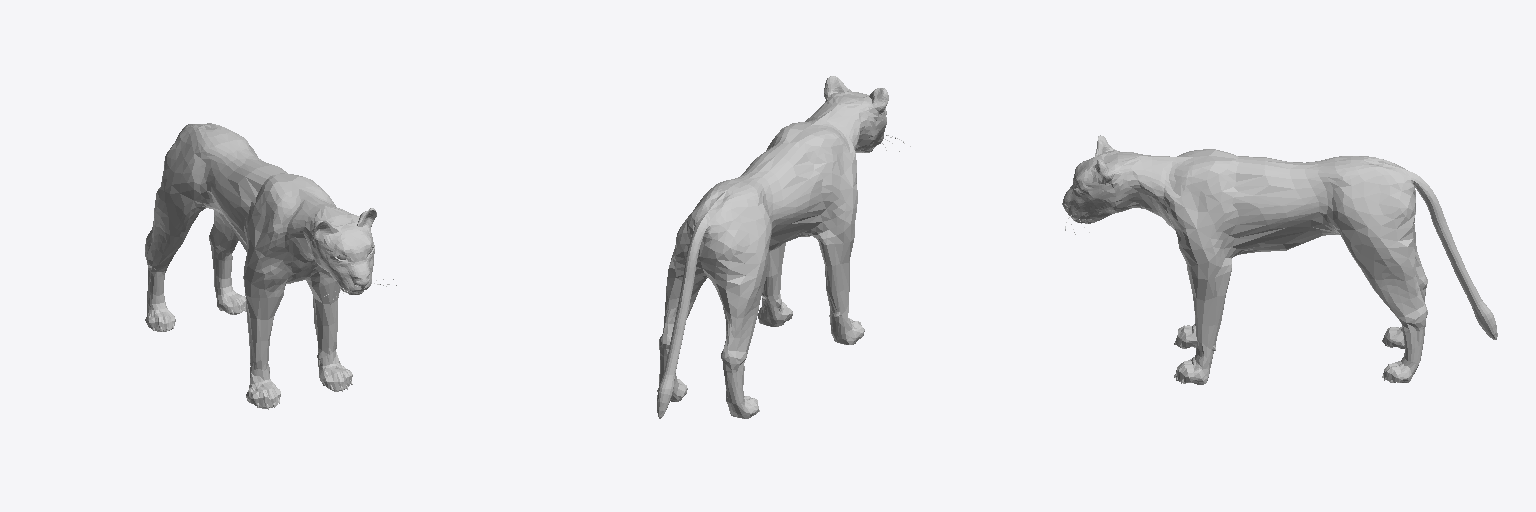
Rendered from CHEETAH.OBJ.
3 renders of one model, left to right at view 1: azimuth 30°, elevation 25°; view 2: azimuth 150°, elevation 25°; view 3: azimuth 270°, elevation 25°, orthographic.
Visible parts, largest first — view 1: che_body; view 2: che_body; view 3: che_body.
Part boxes in pixels (bbox=[...]): che_body: bbox=[145, 123, 376, 409]; che_body: bbox=[657, 76, 888, 418]; che_body: bbox=[1062, 135, 1497, 384].
Bounding box in the file's own units: 0.4786 × 0.972 × 1.78.